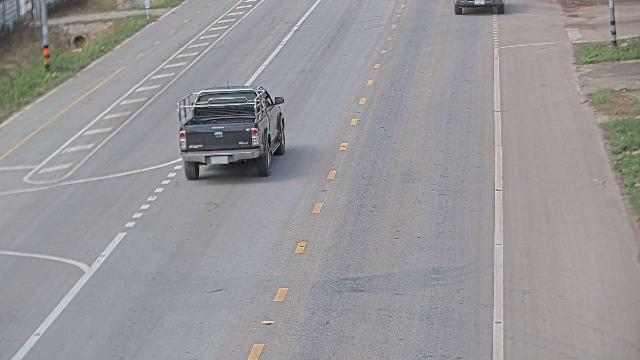car: (454, 0, 505, 15)
pickup-truck: (176, 82, 286, 180)
